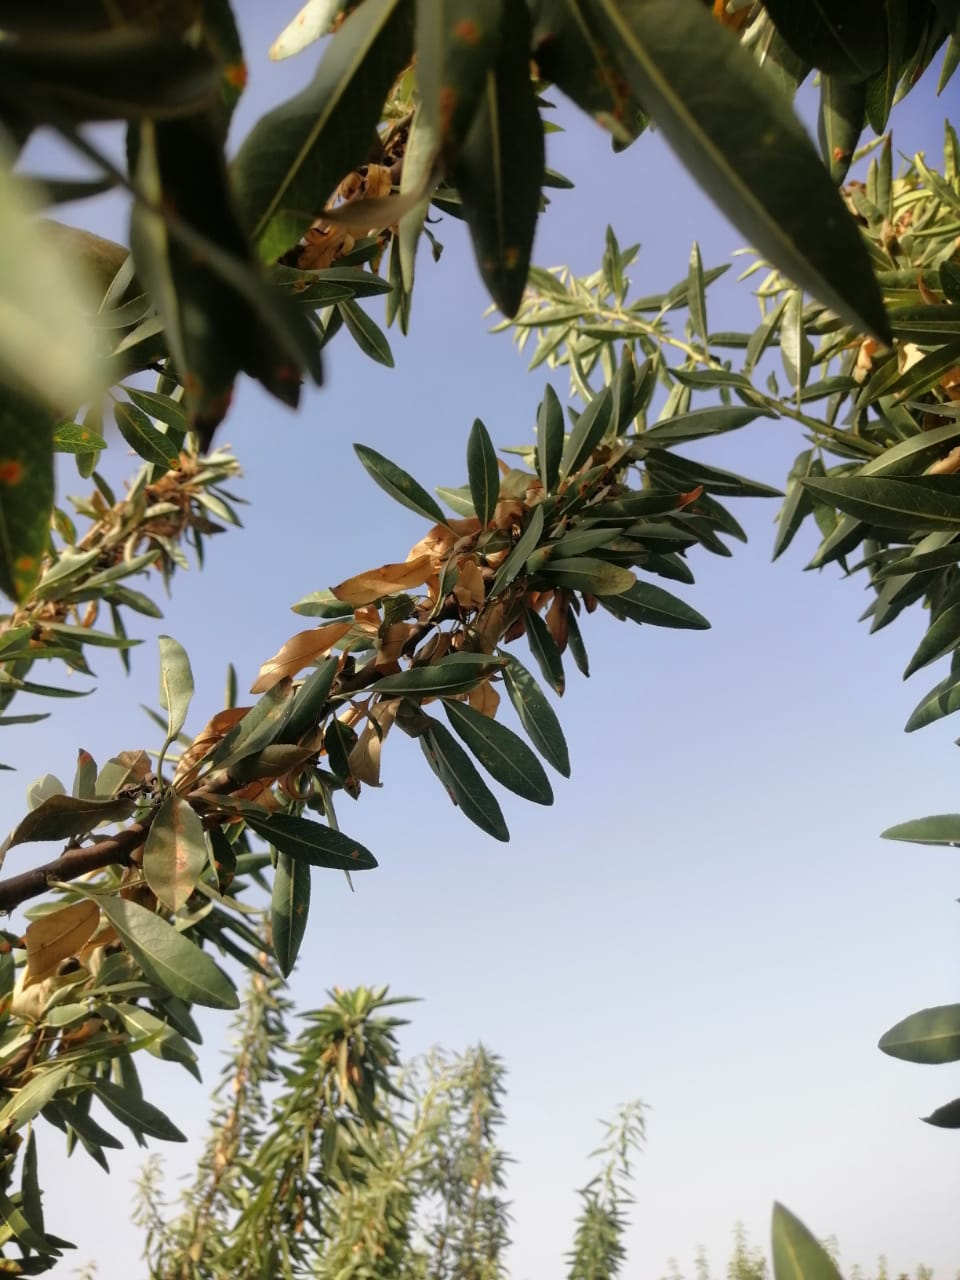scolytes: (1, 447, 633, 1049), (1, 433, 237, 649)
